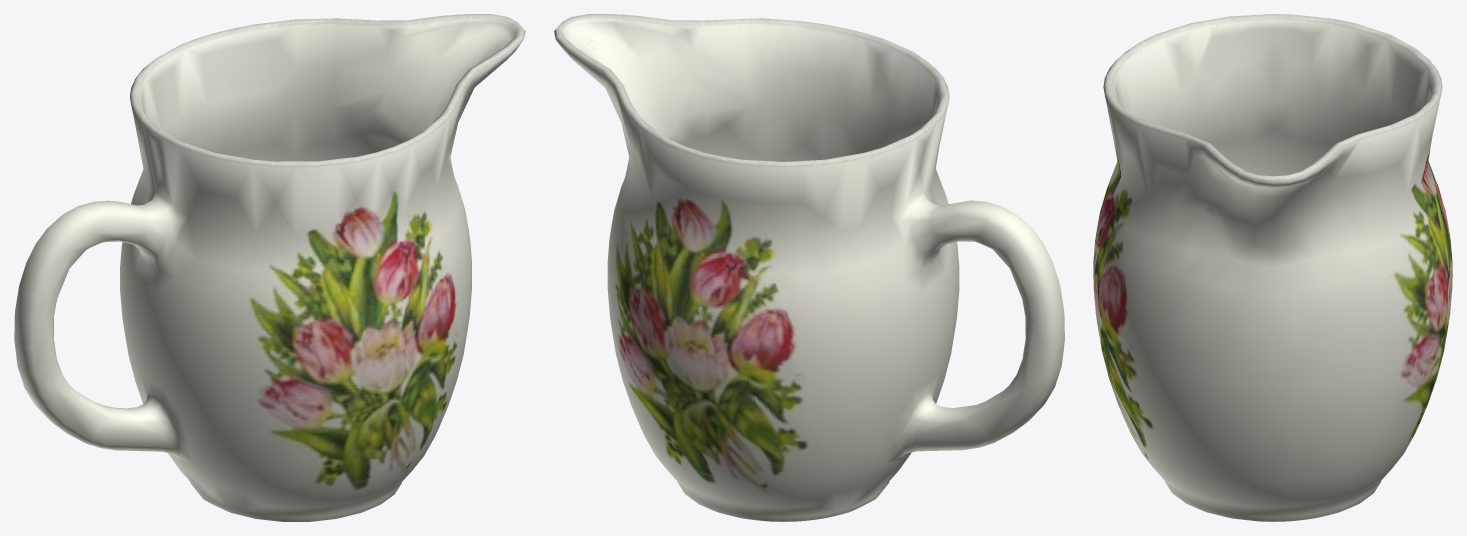
The model's file is jug_01.glb.
3 renders of one model, left to right at view 1: azimuth 30°, elevation 25°; view 2: azimuth 150°, elevation 25°; view 3: azimuth 270°, elevation 25°, orthographic. The views are drawn at different scales.
Parts seen in each view (by area): view 1: jug_01; view 2: jug_01; view 3: jug_01.
Part boxes in pixels (bbox=[...]): jug_01: bbox=[14, 14, 525, 521]; jug_01: bbox=[554, 14, 1064, 521]; jug_01: bbox=[1093, 14, 1452, 521].
Size of the model in its own units: 0.275 by 0.2113 by 0.1675.
1 material, 1 textured.
